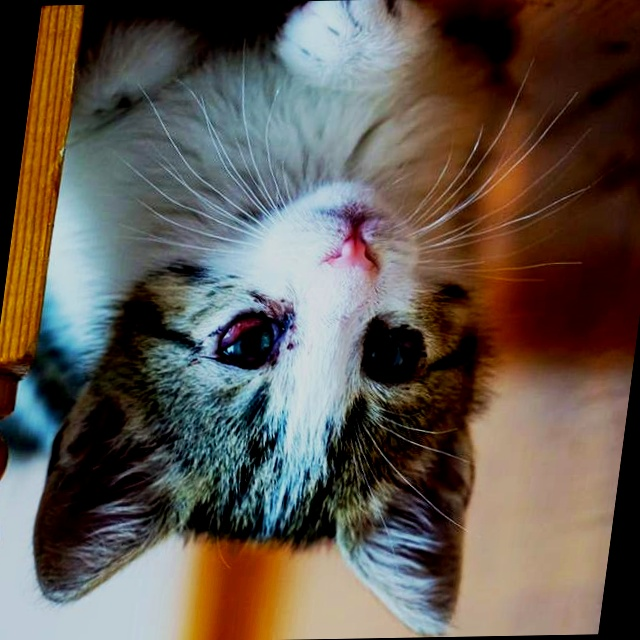eye_infection: (206, 309, 296, 372), (359, 327, 420, 391)
